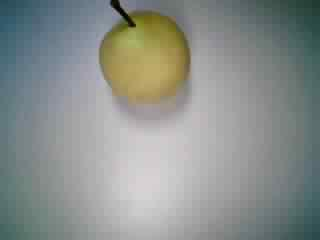pear: (90, 2, 195, 105)
